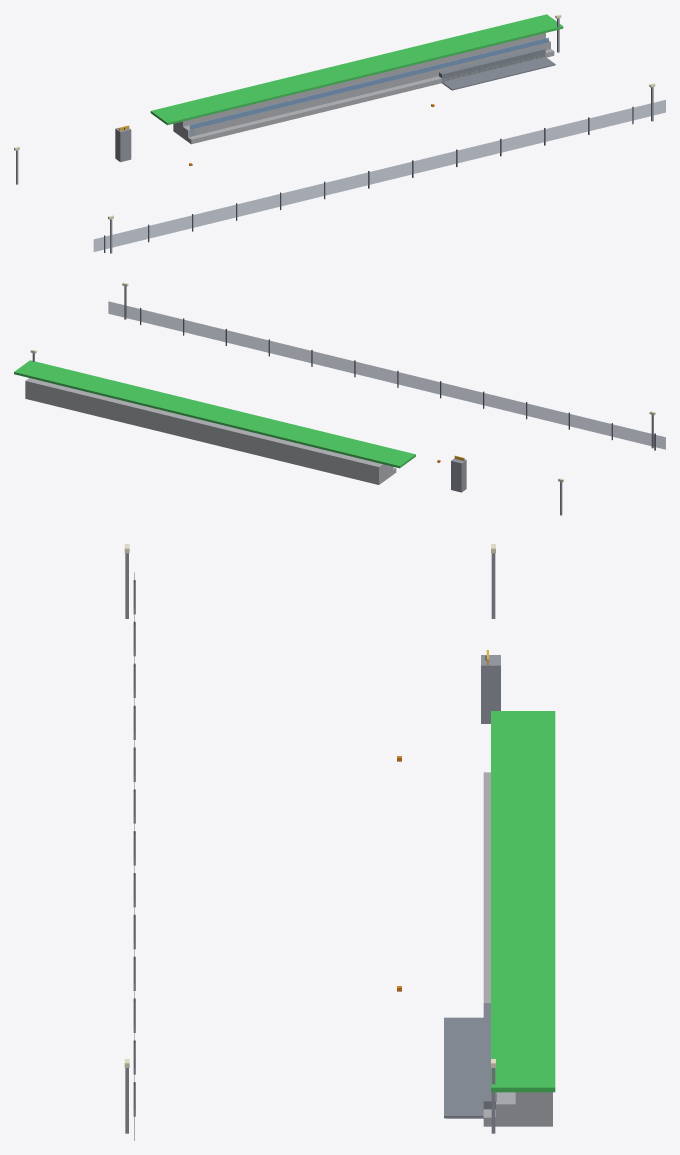
The model's file is venue_20.obj.
3 renders of one model, top to bottom at view 1: azimuth 30°, elevation 25°; view 2: azimuth 150°, elevation 25°; view 3: azimuth 270°, elevation 25°, orthographic. The views are drawn at different scales.
Bounding box in the file's own units: 520 × 32 × 174.
